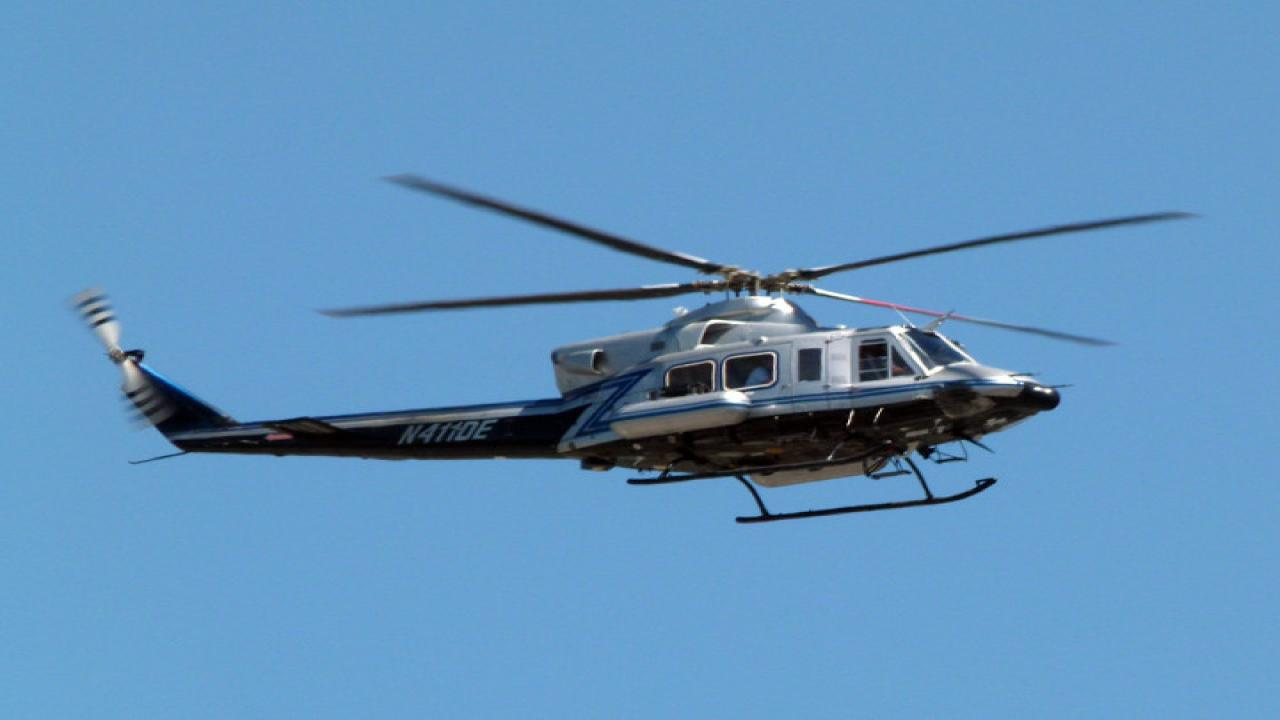Helicopter: (54, 162, 1217, 532)
